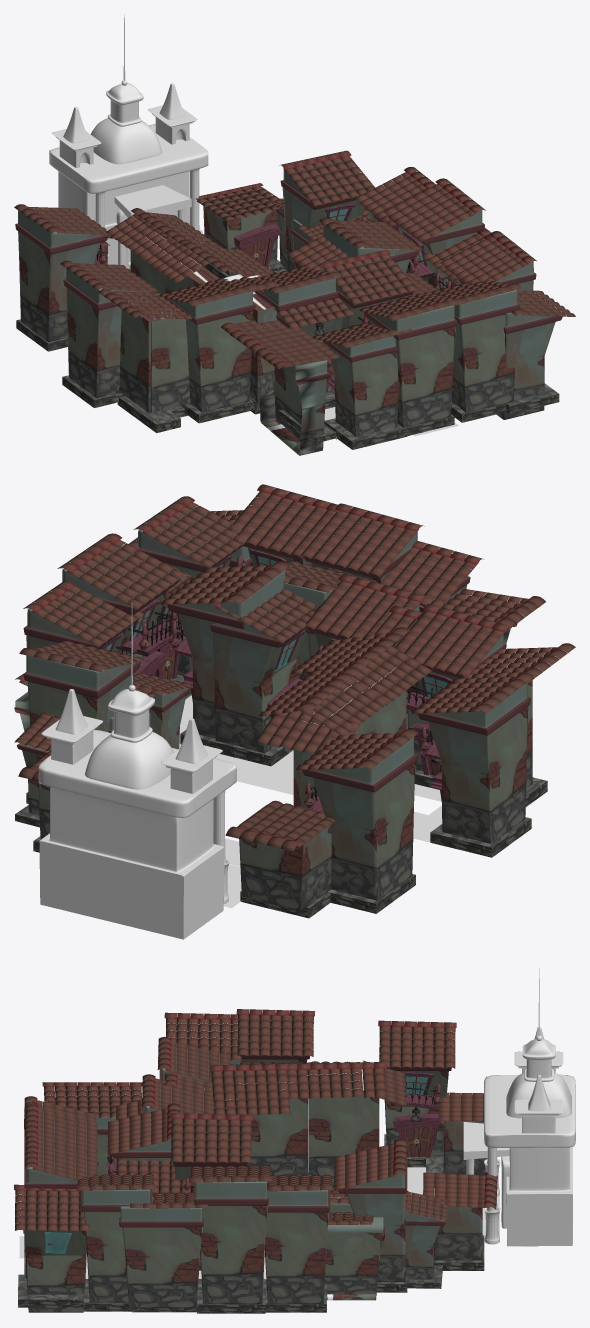
The model's file is mapa_blueprint.glb.
3 views of the same model, one above another, from view 1: azimuth 30°, elevation 25°; view 2: azimuth 150°, elevation 25°; view 3: azimuth 270°, elevation 25° (orthographic). The views are drawn at different scales.
Visible parts, largest first — view 1: Cube, casa.018, casa.004, casa.021, casa.005, casa.014, casa.017, casa.016, casa.001, Cube.004, Cube.012, Teja 1.016 (+46 smaller); view 2: Cube, casa.021, casa.017, casa.020, casa.023, Cube.004, Teja 1.004, casa.012, Teja 1.018, casa.002, Teja 1.009, Teja 1.005 (+46 smaller); view 3: Cube, casa.009, casa.008, casa.011, casa.006, Cube.014, casa.001, casa.015, Teja 1.002, casa.012, Cube.015, Teja 1.026 (+49 smaller).
Boxes of the visible parts, left/top/right/bottom form: Cube: left=49, top=124, right=208, bottom=268; casa.018: left=164, top=282, right=255, bottom=412; casa.004: left=363, top=298, right=457, bottom=427; casa.021: left=15, top=210, right=108, bottom=341; casa.005: left=433, top=286, right=519, bottom=412; casa.014: left=323, top=328, right=398, bottom=436; casa.017: left=63, top=266, right=154, bottom=397; casa.016: left=249, top=323, right=330, bottom=455; casa.001: left=496, top=292, right=562, bottom=419; Cube.004: left=90, top=83, right=162, bottom=164; Cube.012: left=143, top=305, right=190, bottom=412; Teja 1.016: left=220, top=320, right=340, bottom=369; Cube: left=38, top=729, right=236, bottom=939; casa.021: left=301, top=736, right=417, bottom=900; casa.017: left=417, top=680, right=530, bottom=843; casa.020: left=210, top=594, right=314, bottom=752; casa.023: left=239, top=804, right=331, bottom=911; Cube.004: left=85, top=689, right=173, bottom=789; Teja 1.004: left=300, top=503, right=424, bottom=576; casa.012: left=23, top=643, right=140, bottom=731; Teja 1.018: left=390, top=604, right=511, bottom=677; casa.002: left=167, top=570, right=285, bottom=738; Teja 1.009: left=57, top=533, right=186, bottom=609; Teja 1.005: left=231, top=484, right=339, bottom=557; Cube: left=484, top=1074, right=575, bottom=1246; casa.009: left=194, top=1178, right=268, bottom=1304; casa.008: left=119, top=1196, right=204, bottom=1308; casa.011: left=265, top=1187, right=330, bottom=1303; casa.006: left=81, top=1186, right=152, bottom=1302; Cube.014: left=308, top=1080, right=379, bottom=1183; casa.001: left=22, top=1194, right=86, bottom=1312; casa.015: left=324, top=1216, right=384, bottom=1300; Teja 1.002: left=170, top=1113, right=252, bottom=1163; casa.012: left=338, top=1144, right=407, bottom=1281; Cube.015: left=239, top=1082, right=308, bottom=1176; Teja 1.026: left=210, top=1063, right=290, bottom=1115.
Bounding box in the file's own units: 31.85 × 20.95 × 40.89.
1 material, 1 textured.
